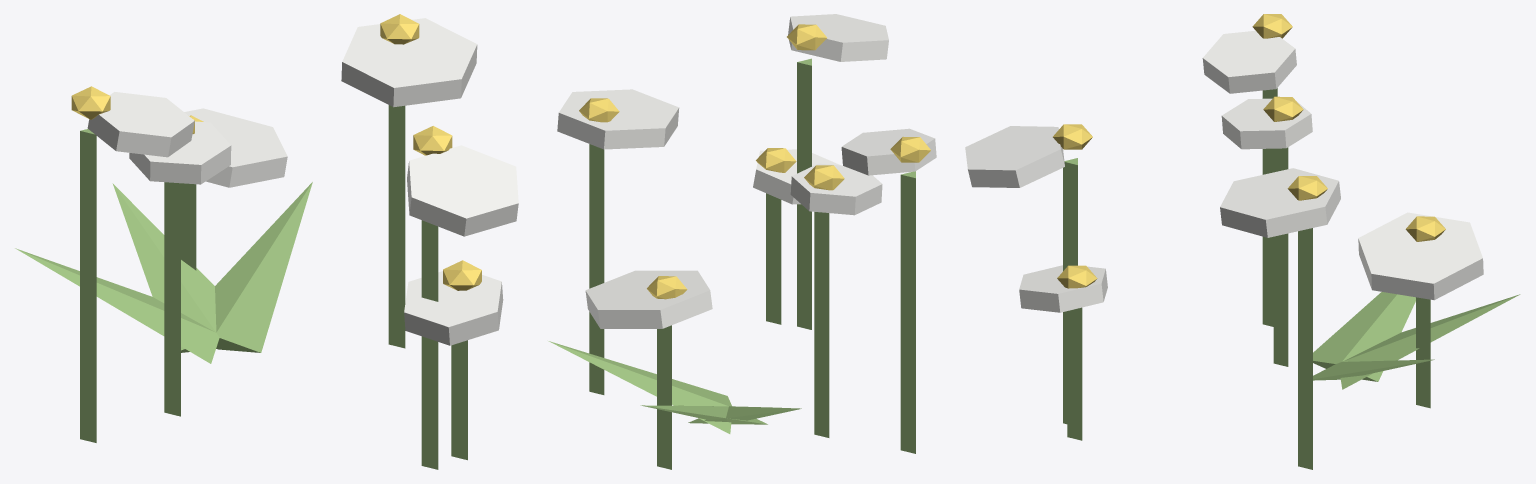
Rendered from flor_branca_0.fbx.
3 views of the same model, side by side, from view 1: azimuth 30°, elevation 25°; view 2: azimuth 150°, elevation 25°; view 3: azimuth 270°, elevation 25° (orthographic). The views are drawn at different scales.
Parts seen in each view (by area): view 1: flor_branca_0~Pétalas 4@petal, flor_branca_0~Pétalas 2@petal, flor_branca_0~Folha 2@stem, flor_branca_0~Haste 3@stem, flor_branca_0~Pétalas 5@petal, flor_branca_0~Pétalas 3@petal, flor_branca_0~Haste 4@stem, flor_branca_0~Folha 0@stem, flor_branca_0~Pétalas 1@petal, flor_branca_0~Haste 0@stem, flor_branca_0~Haste 2@stem, flor_branca_0~Folha 1@stem (+7 smaller); view 2: flor_branca_0~Pétalas 1@petal, flor_branca_0~Pétalas 4@petal, flor_branca_0~Haste 3@stem, flor_branca_0~Haste 0@stem, flor_branca_0~Haste 2@stem, flor_branca_0~Pétalas 2@petal, flor_branca_0~Haste 4@stem, flor_branca_0~Pétalas 0@petal, flor_branca_0~Pétalas 3@petal, flor_branca_0~Folha 2@stem, flor_branca_0~Haste 1@stem, flor_branca_0~Haste 5@stem (+9 smaller); view 3: flor_branca_0~Pétalas 1@petal, flor_branca_0~Pétalas 4@petal, flor_branca_0~Pétalas 2@petal, flor_branca_0~Pétalas 3@petal, flor_branca_0~Folha 1@stem, flor_branca_0~Haste 4@stem, flor_branca_0~Pétalas 0@petal, flor_branca_0~Pétalas 5@petal, flor_branca_0~Haste 0@stem, flor_branca_0~Folha 0@stem, flor_branca_0~Haste 2@stem, flor_branca_0~Haste 5@stem (+9 smaller).
Boxes of the visible parts, box(x1,y1,x2,y2) form: flor_branca_0~Pétalas 4@petal: box(341, 18, 477, 107); flor_branca_0~Pétalas 2@petal: box(407, 145, 518, 236); flor_branca_0~Folha 2@stem: box(215, 182, 312, 352); flor_branca_0~Haste 3@stem: box(80, 129, 96, 442); flor_branca_0~Pétalas 5@petal: box(404, 271, 503, 345); flor_branca_0~Pétalas 3@petal: box(87, 92, 194, 157); flor_branca_0~Haste 4@stem: box(388, 105, 405, 348); flor_branca_0~Folha 0@stem: box(112, 183, 216, 352); flor_branca_0~Pétalas 1@petal: box(184, 108, 287, 187); flor_branca_0~Haste 0@stem: box(164, 182, 180, 416); flor_branca_0~Haste 2@stem: box(421, 220, 438, 469); flor_branca_0~Folha 1@stem: box(15, 248, 219, 363); flor_branca_0~Pétalas 1@petal: box(585, 270, 712, 328); flor_branca_0~Pétalas 4@petal: box(557, 89, 679, 149); flor_branca_0~Haste 3@stem: box(900, 171, 915, 453); flor_branca_0~Haste 0@stem: box(814, 212, 829, 437); flor_branca_0~Haste 2@stem: box(797, 58, 811, 329); flor_branca_0~Pétalas 2@petal: box(788, 14, 888, 61); flor_branca_0~Haste 4@stem: box(589, 144, 604, 394); flor_branca_0~Pétalas 0@petal: box(790, 163, 882, 215); flor_branca_0~Pétalas 3@petal: box(841, 128, 936, 175); flor_branca_0~Folha 2@stem: box(548, 341, 731, 433); flor_branca_0~Haste 1@stem: box(657, 325, 671, 469); flor_branca_0~Haste 5@stem: box(766, 193, 781, 324); flor_branca_0~Pétalas 1@petal: box(1358, 212, 1483, 300); flor_branca_0~Pétalas 4@petal: box(1220, 168, 1340, 237); flor_branca_0~Pétalas 2@petal: box(965, 126, 1064, 187); flor_branca_0~Pétalas 3@petal: box(1202, 30, 1296, 93); flor_branca_0~Folha 1@stem: box(1313, 292, 1415, 381); flor_branca_0~Haste 4@stem: box(1298, 228, 1312, 469); flor_branca_0~Pétalas 0@petal: box(1221, 98, 1312, 149); flor_branca_0~Pétalas 5@petal: box(1019, 265, 1107, 312); flor_branca_0~Haste 0@stem: box(1273, 147, 1288, 366); flor_branca_0~Folha 0@stem: box(1340, 294, 1520, 389); flor_branca_0~Haste 2@stem: box(1063, 158, 1077, 424); flor_branca_0~Haste 5@stem: box(1067, 307, 1082, 440).
Size of the model in its own units: 0.4536 by 0.3764 by 0.6165.
